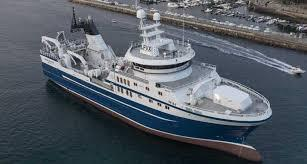Ship: (43, 11, 272, 161)
